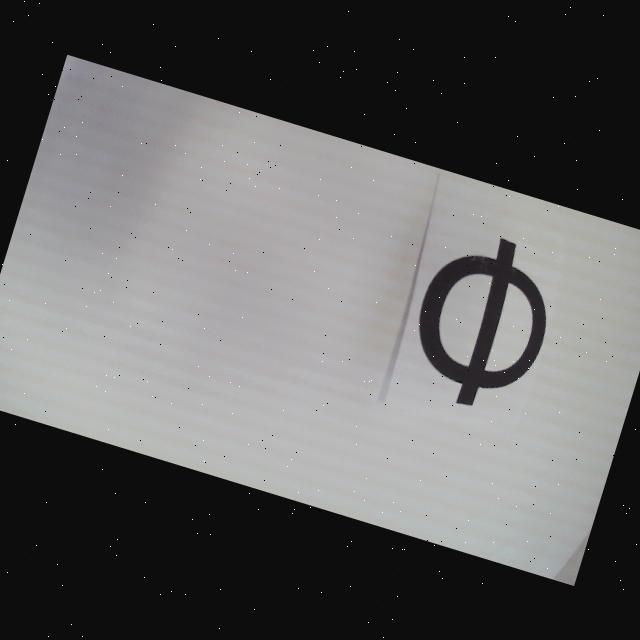PHI: (396, 220, 568, 424)
